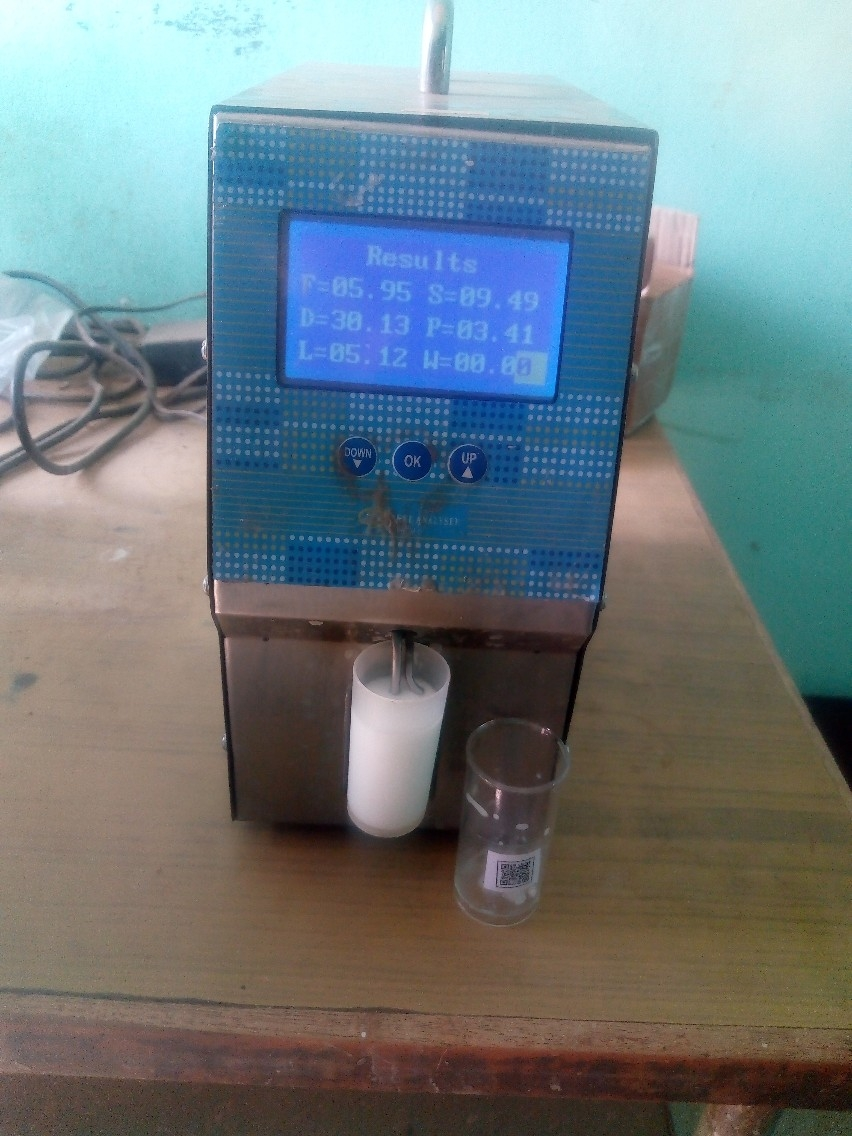lcd: (269, 204, 578, 404)
qr: (486, 847, 541, 897)
